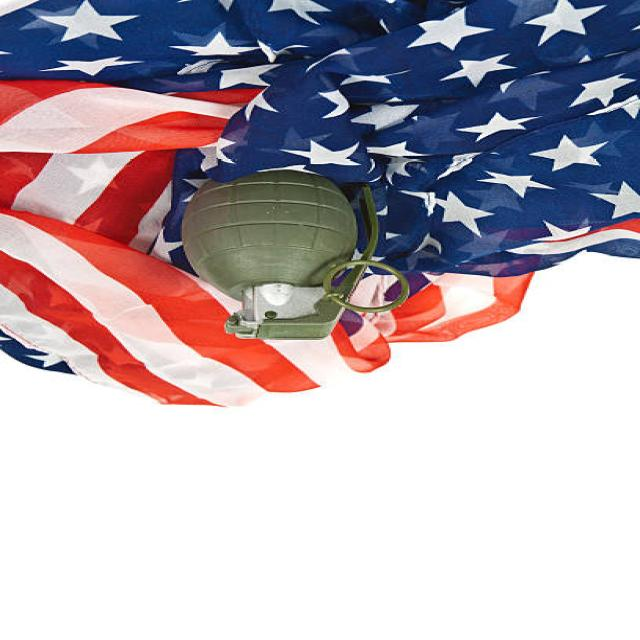grenade: (174, 165, 413, 349)
